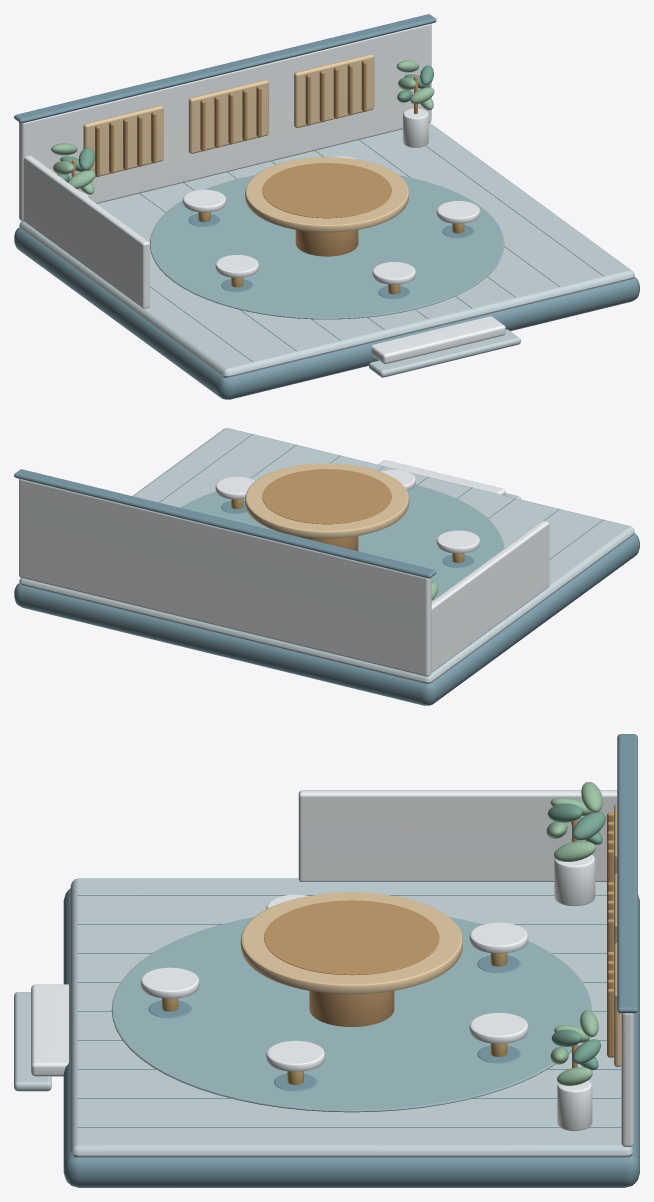
Rendered from council.glb.
3 renders of one model, top to bottom at view 1: azimuth 30°, elevation 25°; view 2: azimuth 150°, elevation 25°; view 3: azimuth 270°, elevation 25°, orthographic. The views are drawn at different scales.
Visible parts, largest first — view 1: Floor, Council_rug, Back_wall, Foundation, Left_wall, Table_inset, Back_cap, Council_table, Wall_panel.002, Wall_panel.001, Wall_panel, Entry_step (+7 smaller); view 2: Back_wall, Floor, Foundation, Left_wall, Council_rug, Table_inset, Back_cap, Council_table, Entry_step, Seat.004, Seat.001, Table_column; view 3: Floor, Council_rug, Left_wall, Foundation, Table_inset, Council_table, Back_cap, Entry_step, Table_column, Entry_step_lower, Planter, Back_wall (+8 smaller).
Boxes of the visible parts, bbox=[...] form: Floor: bbox=[19, 123, 634, 377]; Council_rug: bbox=[150, 175, 504, 319]; Back_wall: bbox=[19, 23, 431, 221]; Foundation: bbox=[14, 227, 639, 399]; Left_wall: bbox=[23, 155, 149, 308]; Table_inset: bbox=[262, 163, 391, 218]; Back_cap: bbox=[14, 14, 436, 123]; Council_table: bbox=[245, 157, 408, 232]; Wall_panel.002: bbox=[294, 54, 374, 127]; Wall_panel.001: bbox=[188, 80, 268, 153]; Wall_panel: bbox=[83, 105, 163, 177]; Entry_step: bbox=[371, 316, 505, 364]; Back_wall: bbox=[19, 479, 431, 676]; Floor: bbox=[19, 428, 634, 683]; Foundation: bbox=[14, 533, 639, 705]; Left_wall: bbox=[431, 521, 549, 672]; Council_rug: bbox=[180, 485, 503, 599]; Table_inset: bbox=[262, 469, 391, 524]; Back_cap: bbox=[14, 469, 436, 578]; Council_table: bbox=[245, 463, 408, 538]; Entry_step: bbox=[378, 460, 505, 495]; Seat.004: bbox=[436, 530, 479, 553]; Seat.001: bbox=[215, 476, 255, 499]; Table_column: bbox=[296, 536, 358, 550]; Floor: bbox=[70, 878, 632, 1157]; Council_rug: bbox=[111, 917, 591, 1112]; Left_wall: bbox=[298, 790, 617, 881]; Foundation: bbox=[63, 888, 639, 1187]; Table_inset: bbox=[264, 900, 439, 975]; Council_table: bbox=[240, 892, 462, 994]; Back_cap: bbox=[617, 734, 637, 1013]; Entry_step: bbox=[31, 984, 68, 1076]; Table_column: bbox=[309, 991, 394, 1026]; Entry_step_lower: bbox=[14, 992, 51, 1091]; Planter: bbox=[554, 854, 595, 905]; Back_wall: bbox=[621, 1013, 633, 1147].
Size of the model in its own units: 9.6 by 2.95 by 9.12.
